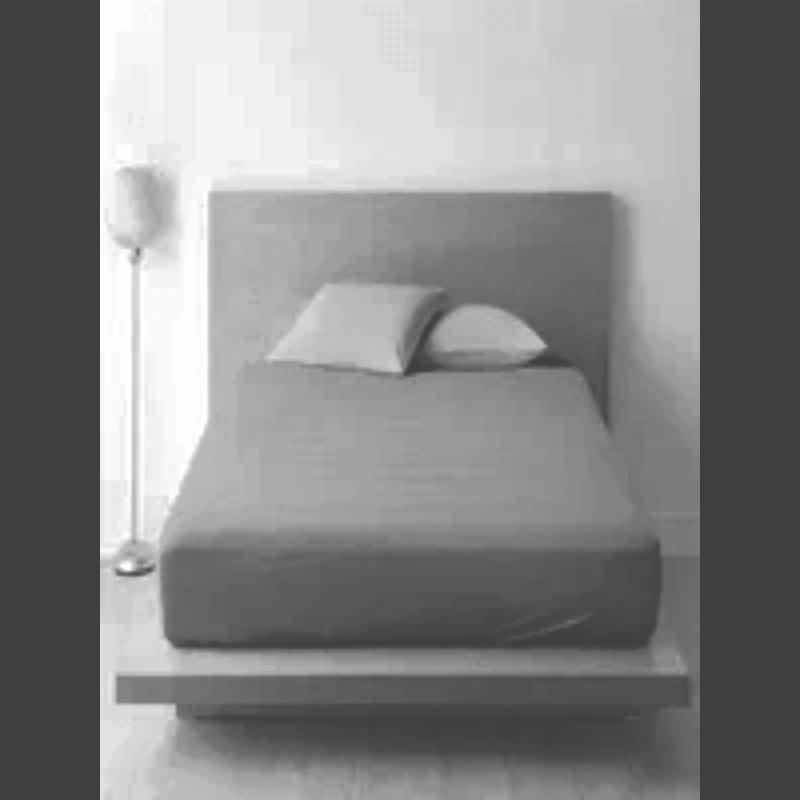pillow: (261, 276, 449, 378), (411, 295, 555, 371)
